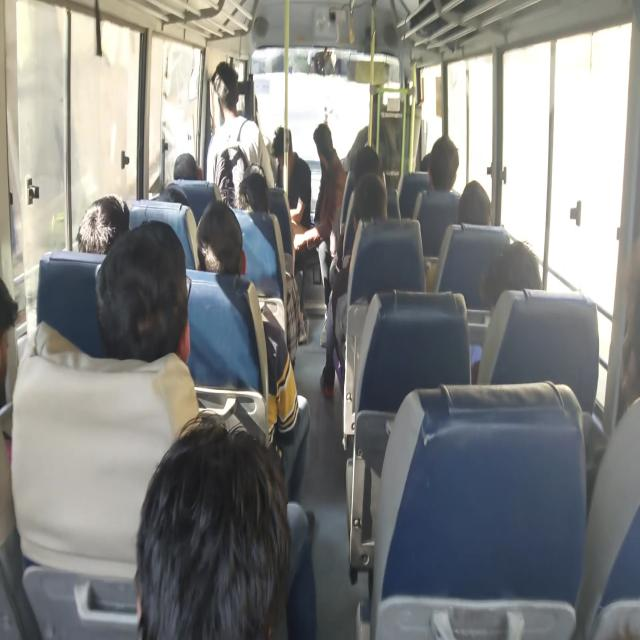person: (119, 434, 322, 640), (585, 297, 640, 459), (102, 221, 178, 330), (0, 273, 41, 370), (192, 213, 240, 273), (485, 256, 544, 304), (422, 124, 469, 176), (79, 188, 122, 243), (228, 182, 268, 241), (212, 66, 250, 125), (450, 179, 490, 234), (358, 139, 395, 183), (358, 171, 389, 221), (412, 146, 448, 187), (272, 134, 300, 182), (313, 126, 336, 165), (176, 140, 201, 172), (240, 156, 266, 186), (167, 173, 190, 206)
